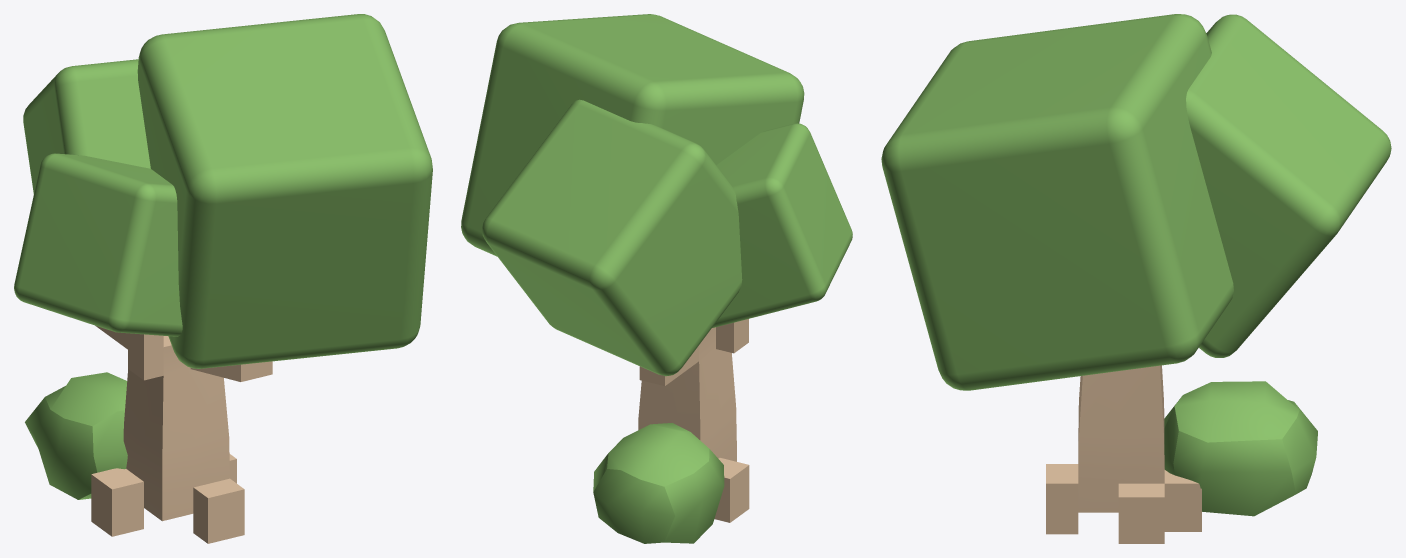
3 views of the same model, side by side, from view 1: azimuth 30°, elevation 25°; view 2: azimuth 150°, elevation 25°; view 3: azimuth 270°, elevation 25° (orthographic). The views are drawn at different scales.
Parts seen in each view (by area): view 1: pCube4, pCube5, pCube2, pCube3, pCube6; view 2: pCube3, pCube4, pCube5, pCube6, pCube2; view 3: pCube4, pCube3, pCube2, pCube6.
Boxes of the visible parts, x1,y1,x2,y2 form: pCube4: (137,14,432,368); pCube5: (14,153,182,336); pCube2: (91,325,272,543); pCube3: (23,59,150,194); pCube6: (25,372,127,499); pCube3: (482,99,742,376); pCube4: (461,14,804,256); pCube5: (712,123,852,327); pCube6: (593,423,724,543); pCube2: (638,319,749,522); pCube4: (881,14,1233,390); pCube3: (1186,14,1391,357); pCube2: (1046,365,1201,543); pCube6: (1164,381,1317,516).
Size of the model in its own units: 0.981 by 1.16 by 1.05.
